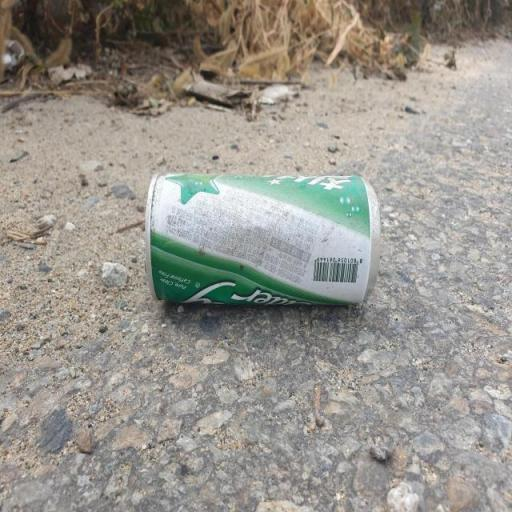metal: (99, 146, 407, 338)
